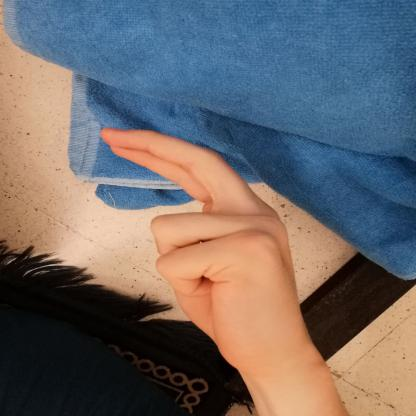ZAY: (89, 116, 322, 381)
